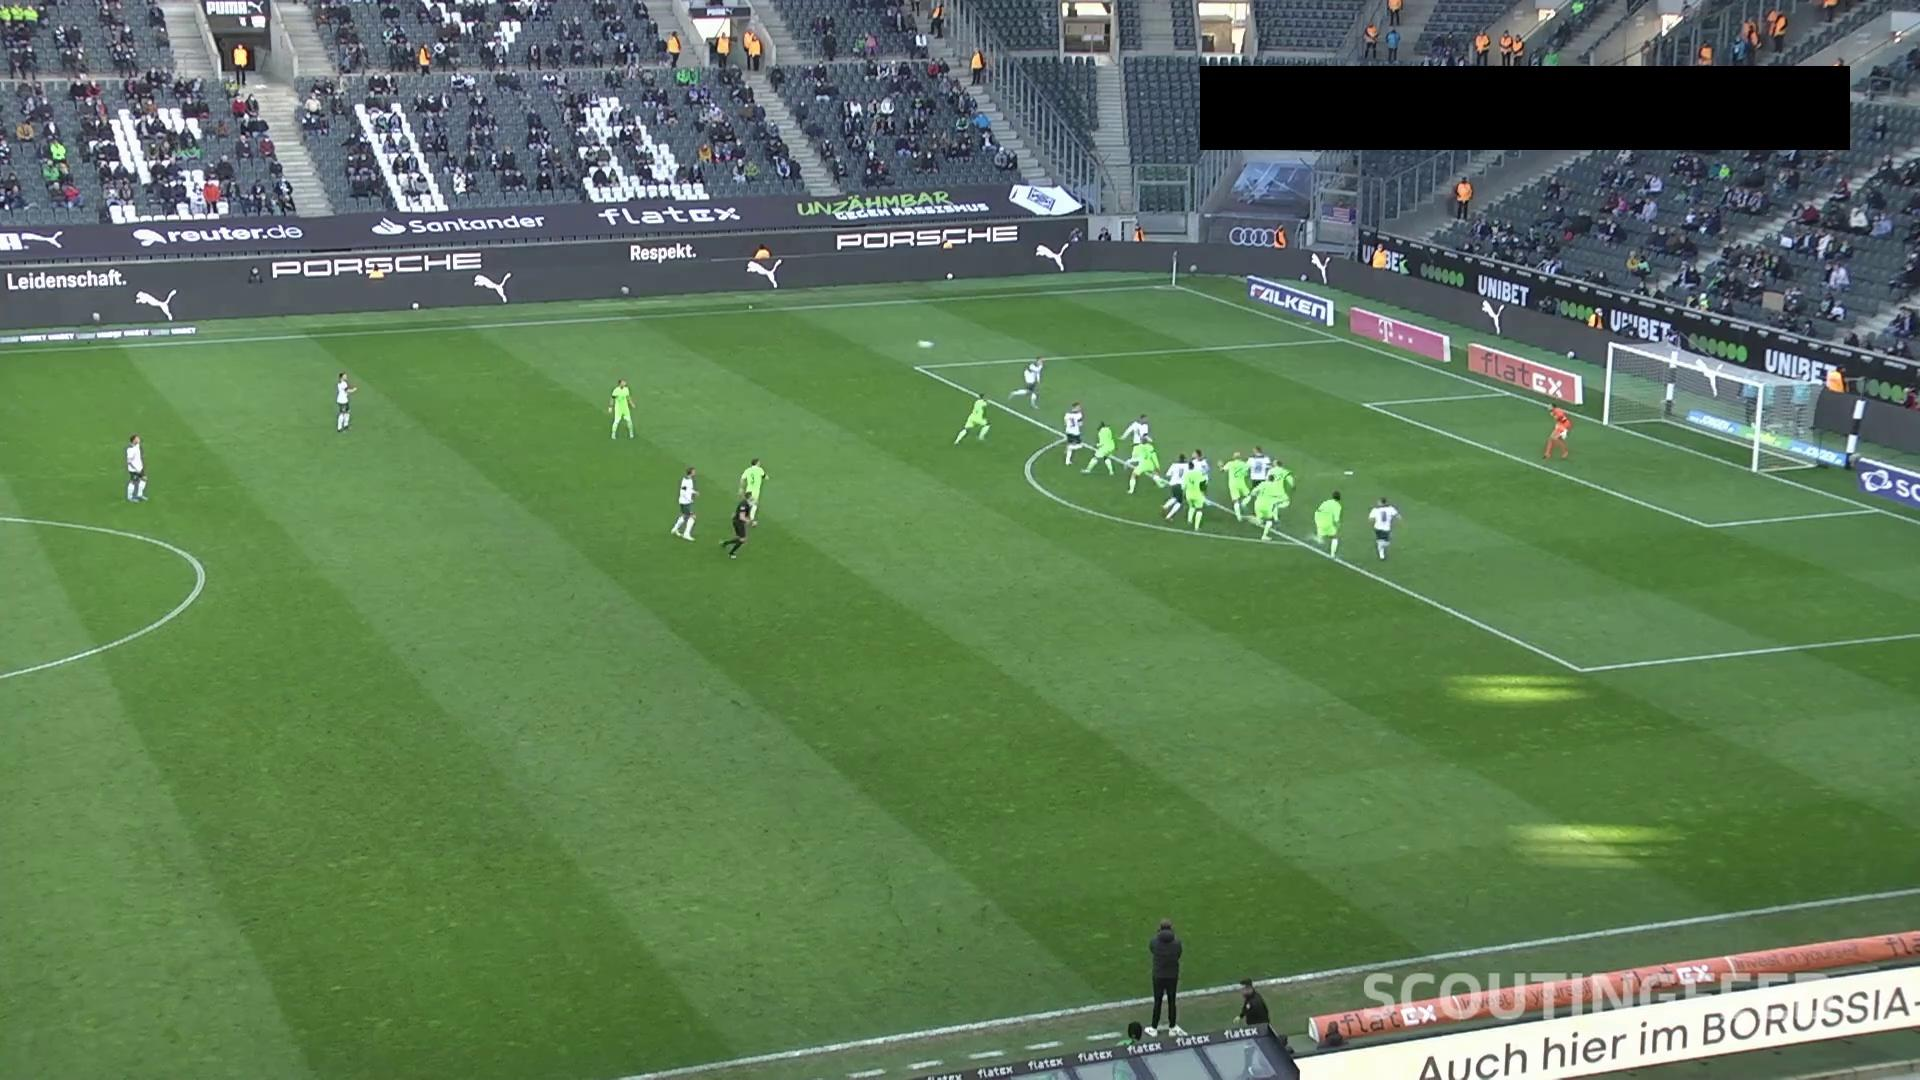Location-of-ball: (907, 327, 947, 359)
